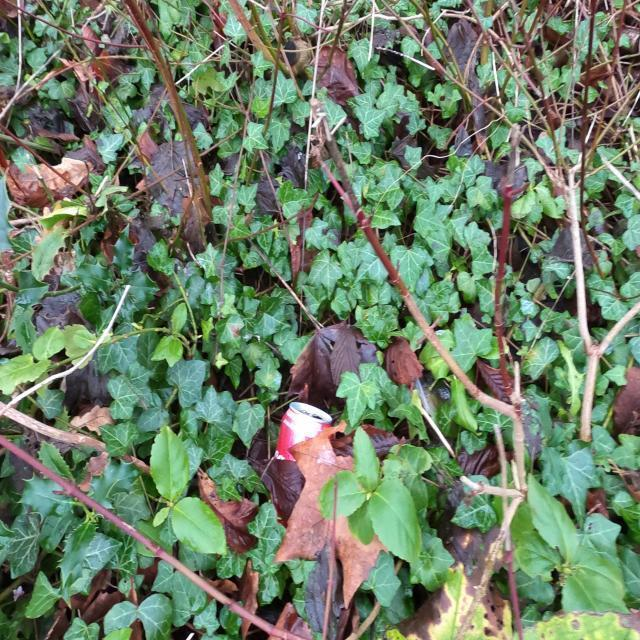Can-Metal: (272, 398, 340, 468)
